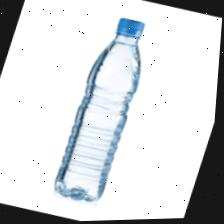plastic: (38, 7, 165, 220)
